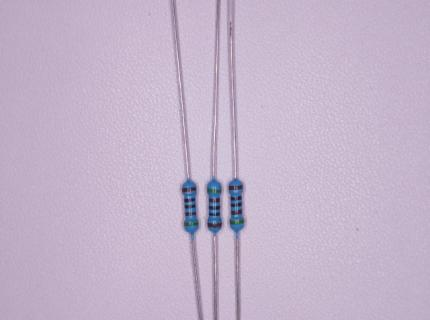Black band: (230, 195, 242, 201), (184, 198, 196, 203), (230, 202, 242, 207), (209, 205, 220, 210), (184, 205, 196, 209), (208, 213, 220, 216)
Brown band: (228, 185, 243, 191), (231, 209, 243, 216), (182, 187, 197, 192), (207, 222, 222, 227), (209, 198, 220, 203), (185, 212, 196, 216)
Green band: (207, 188, 222, 194), (229, 219, 244, 225), (184, 222, 199, 227)
